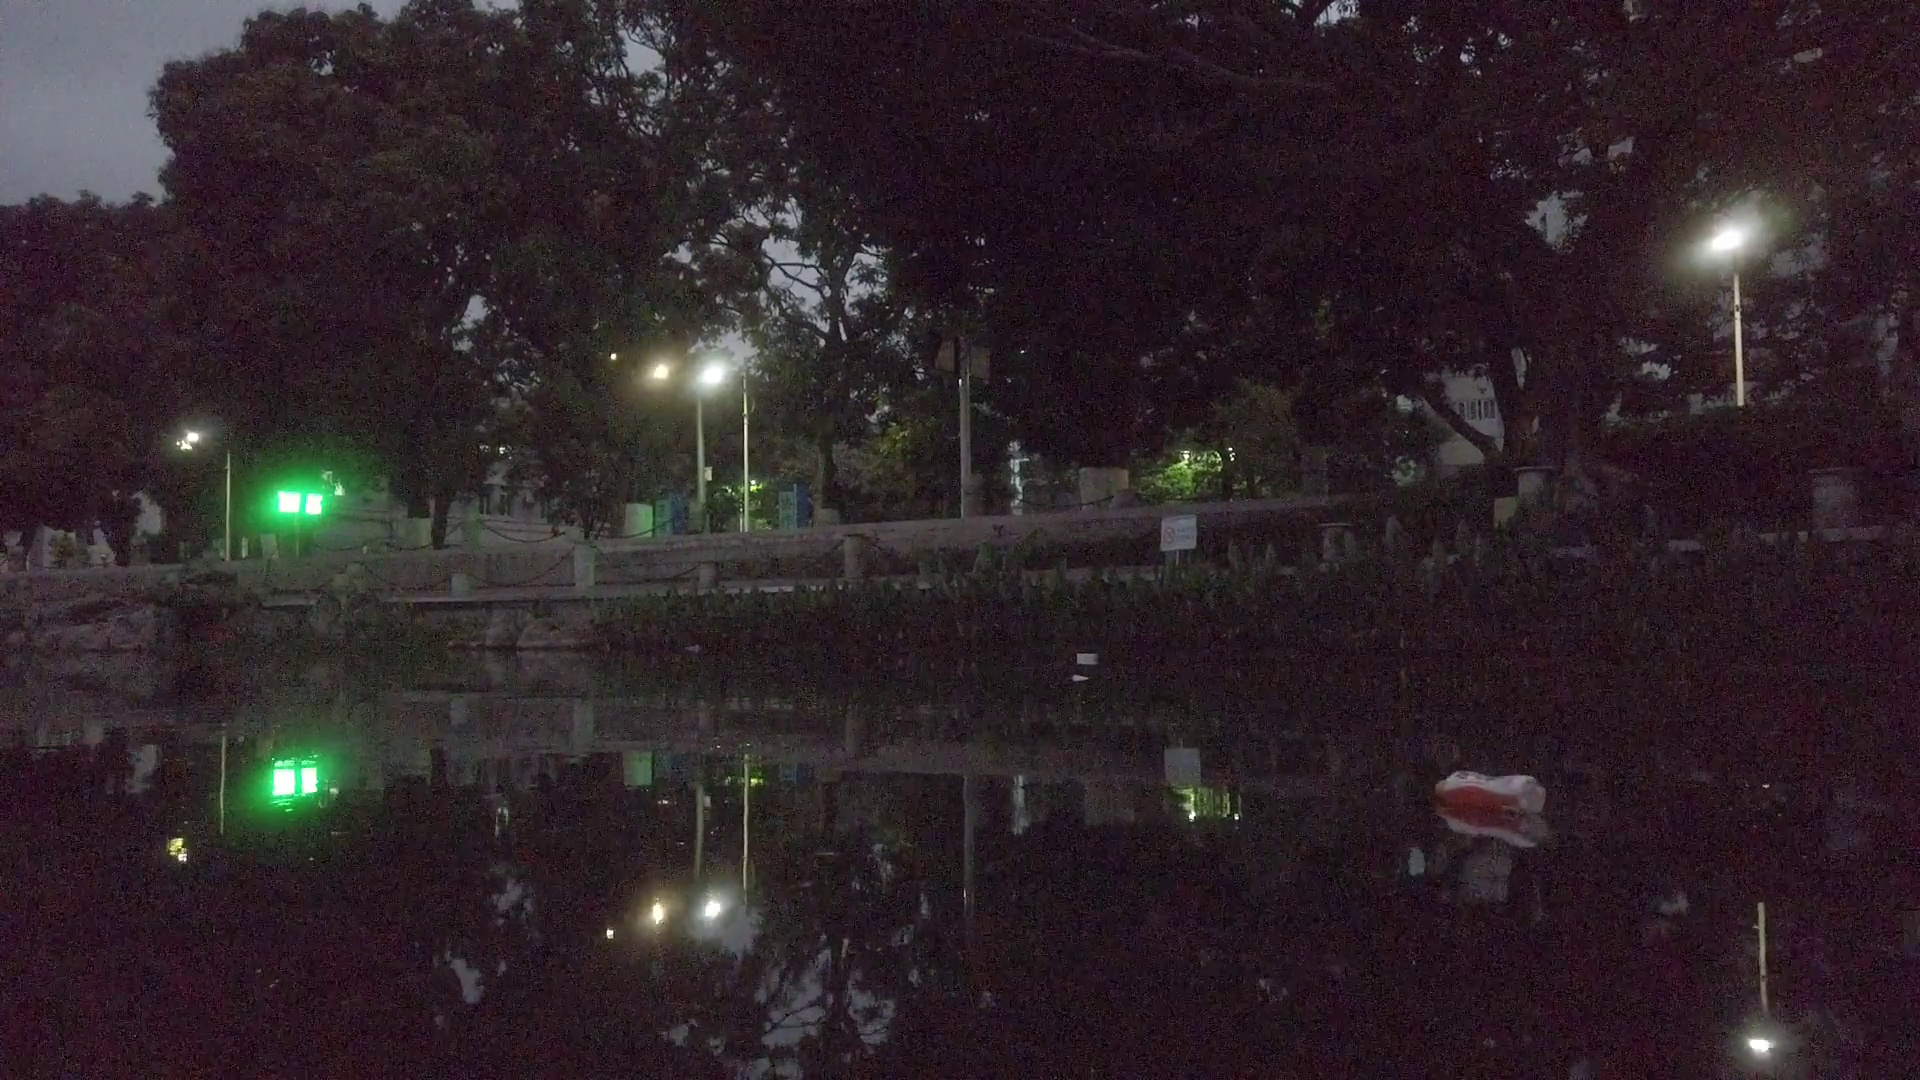bottle: (1432, 767, 1549, 814)
carton: (1077, 651, 1098, 665)
paper: (1072, 671, 1087, 682)
